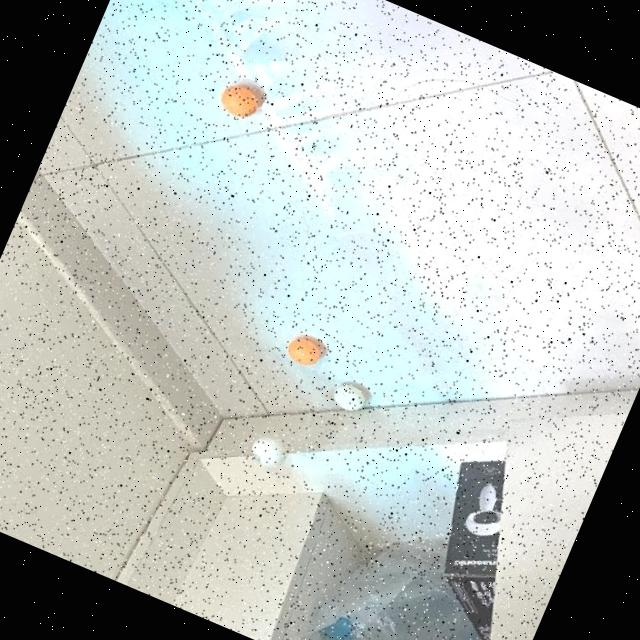ping-pong-ball: (213, 78, 260, 122), (244, 430, 288, 471), (280, 331, 322, 370), (328, 379, 364, 412)
